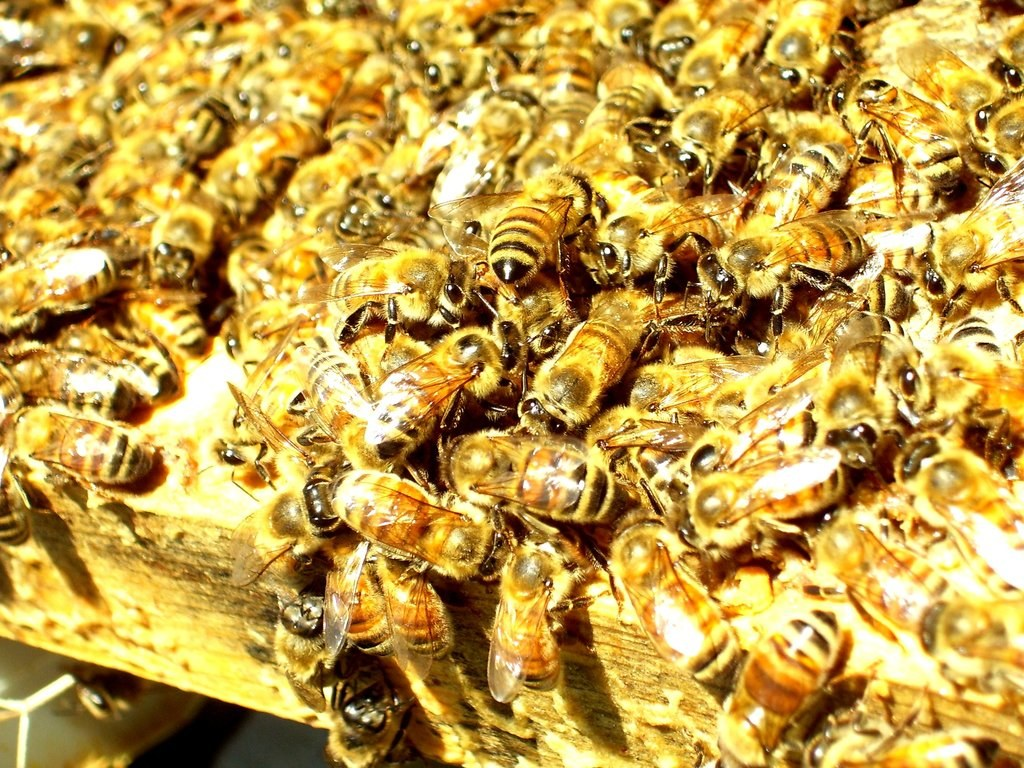bee: (0, 0, 1023, 767), (0, 0, 1022, 116), (602, 503, 736, 696), (694, 604, 850, 767), (694, 200, 887, 326), (441, 420, 618, 552), (336, 465, 503, 595), (475, 531, 581, 701), (364, 330, 495, 463), (918, 159, 1023, 318), (697, 454, 846, 554), (10, 388, 155, 490), (347, 548, 459, 660), (517, 323, 629, 435), (212, 115, 330, 220), (234, 383, 339, 492), (492, 172, 589, 289), (66, 305, 184, 399), (0, 240, 120, 332), (776, 408, 906, 490), (948, 319, 1023, 445), (327, 184, 433, 260), (151, 184, 233, 282), (99, 278, 221, 342), (167, 95, 238, 163)
insect: (0, 0, 1024, 763)
